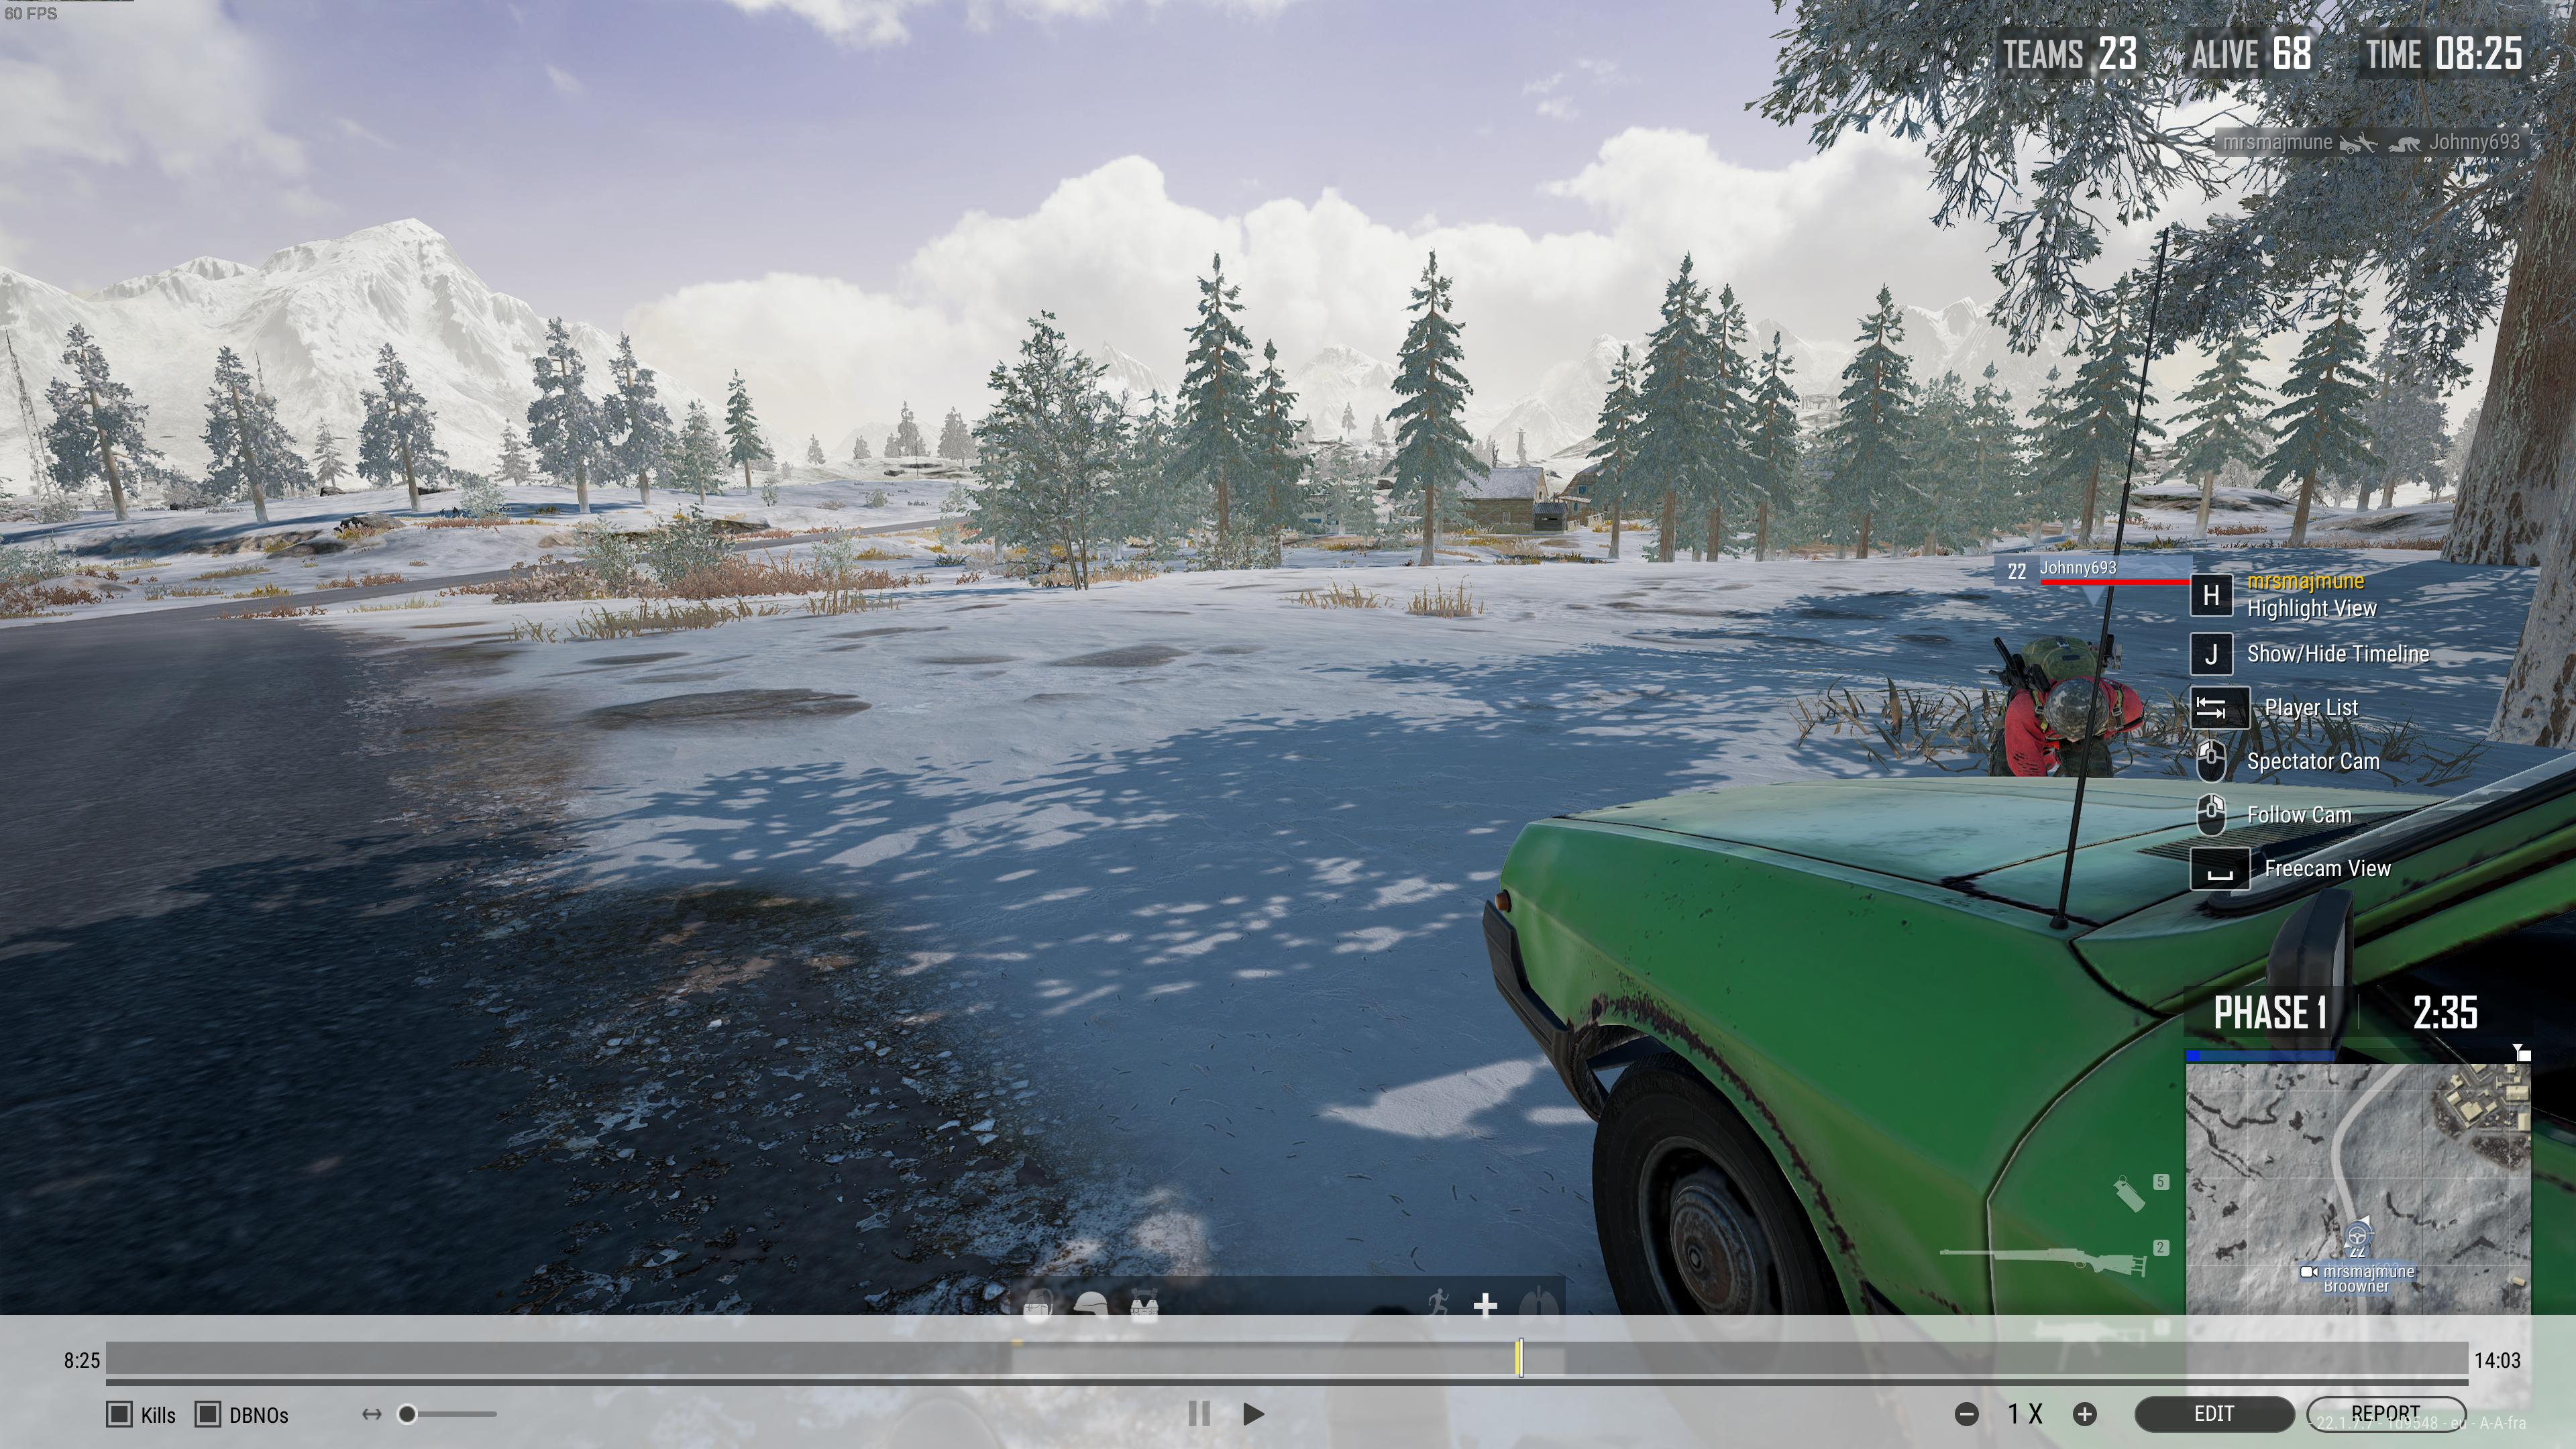enemy: (1987, 646, 2144, 777)
enemy_head: (2043, 678, 2109, 741)
